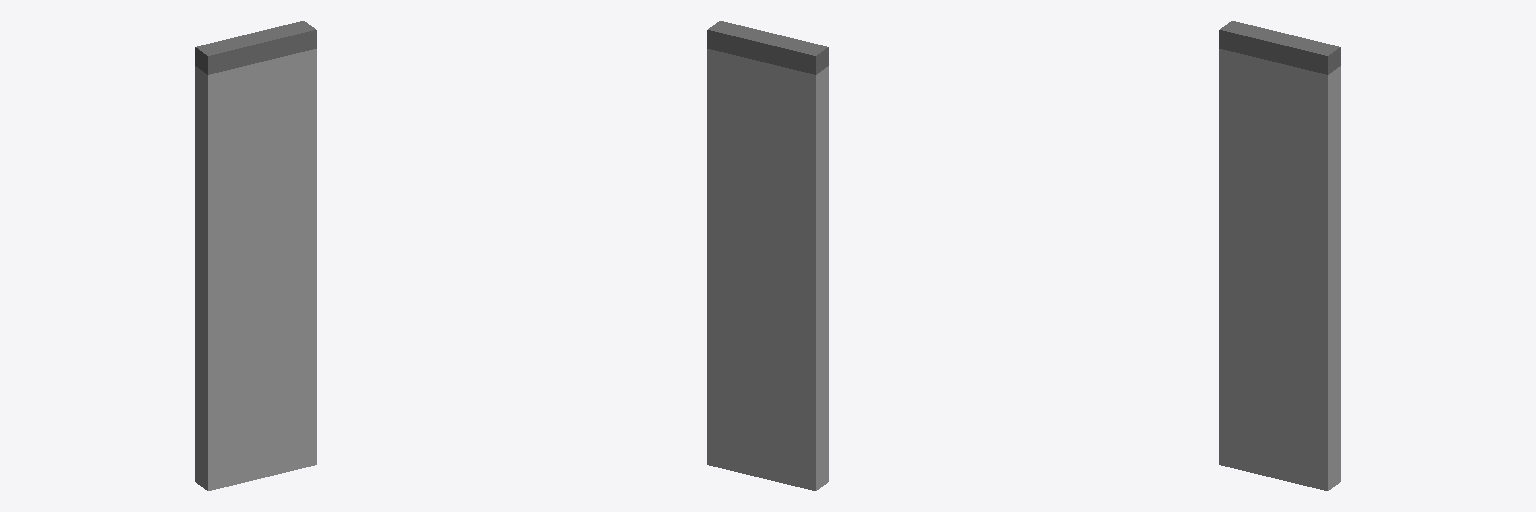
robot.urdf — spatula-base.urdf:
<?xml version="0.0" ?>
<robot name="spatula-base.urdf">
  <material name="DarkGrey">
    <color rgba="0.2 0.2 0.2 1.0"/>
  </material>
  <material name="Grey">
    <color rgba="0.5 0.5 0.5 1.0"/>
  </material>
  <material name="LightGrey">
    <color rgba="0.7 0.7 0.7 1.0"/>
  </material>

  <link name="base_link">
    <contact>
      <lateral_friction value="1.0"/>
      <rolling_friction value="0.0001"/>
      <spinning_friction value="0.0001"/>
    </contact>
    <inertial>
      <origin rpy="0 0 0" xyz="0 0 0"/>
       <mass value=".1"/>
       <inertia ixx="1" ixy="0" ixz="0" iyy="1" iyz="0" izz="1"/>
    </inertial>
    <visual>
      <origin rpy="0 0 0" xyz="0 0 0"/>
      <geometry>
        <mesh filename="base.obj" scale="0.001 0.001 0.001"/>
      </geometry>
      <material name="DarkGrey"/>
    </visual>
    <visual>
      <origin rpy="0 0 0" xyz="0 0 0.075"/>
      <geometry>
        <box size="0.03 0.006 0.11"/>
      </geometry>
      <material name="LightGrey"/>
    </visual>
    <collision>
      <origin rpy="0 0 0" xyz="0 0 0.075"/>
      <geometry>
        <box size="0.03 0.006 0.11"/>
      </geometry>
    </collision>
  </link>

  <link name="tipLink">
    <contact>
      <lateral_friction value="1.0"/>
      <rolling_friction value="0.0001"/>
      <spinning_friction value="0.0001"/>
    </contact>
    <inertial>
      <origin rpy="0 0 0" xyz="0 0 0"/>
       <mass value=".1"/>
       <inertia ixx="1" ixy="0" ixz="0" iyy="1" iyz="0" izz="1"/>
    </inertial>
    <visual>
      <origin rpy="0 0 0" xyz="0 0 0.0025"/>
      <geometry>
        <mesh filename="tip_flat.obj"/>
      </geometry>
      <material name="Grey"/>
    </visual>
    <collision>
      <origin rpy="0 0 0" xyz="0 0 0.0025"/>
      <geometry>
        <mesh filename="tip_flat.obj"/>
      </geometry>
    </collision>
  </link>
  <joint name="baseLink-tipLink" type="fixed">
    <origin rpy="0 0 0" xyz="0 0 0.13"/>
    <parent link="base_link"/>
    <child link="tipLink"/>
  </joint>


</robot>

--- What the picture shows (computed from the rendered views, not written in the file) ---
Views: 3 orthographic renders of the robot side by side, from view 1: azimuth 30°, elevation 25°; view 2: azimuth 150°, elevation 25°; view 3: azimuth 330°, elevation 25°.
Robot: spatula-base.urdf — 2 links, 1 joints (1 fixed); root link base_link; default pose: every joint at zero.
Links seen in each view (by area): view 1: base_link, tipLink; view 2: base_link, tipLink; view 3: base_link, tipLink.
Boxes of the visible links, x1=… form: base_link: x1=195, y1=49, x2=316, y2=490; tipLink: x1=195, y1=21, x2=316, y2=74; base_link: x1=707, y1=49, x2=828, y2=490; tipLink: x1=707, y1=21, x2=828, y2=74; base_link: x1=1219, y1=49, x2=1340, y2=490; tipLink: x1=1219, y1=21, x2=1340, y2=74.
Size in the robot's own frame: 0.03 by 0.006 by 0.115 metres.
Meshes: 2 distinct files referenced, 1 mesh visuals loaded (1 OBJ); not drawn: 1 (reference not matched to a file when rendering).